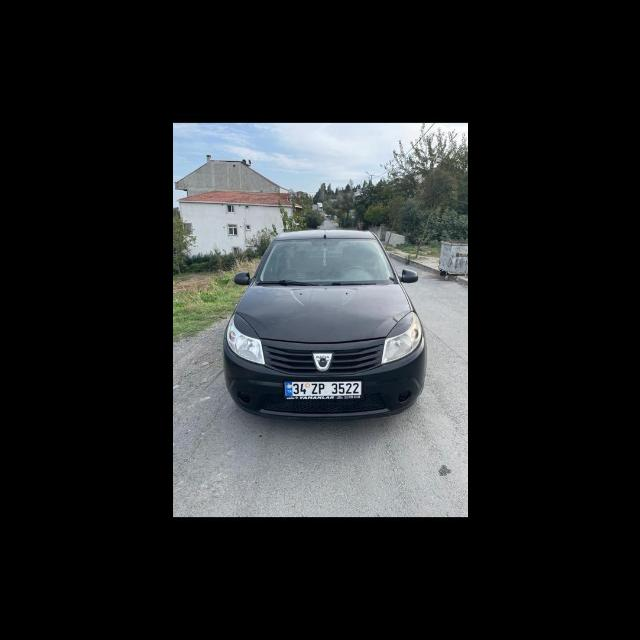Plaka: (286, 379, 362, 395)
